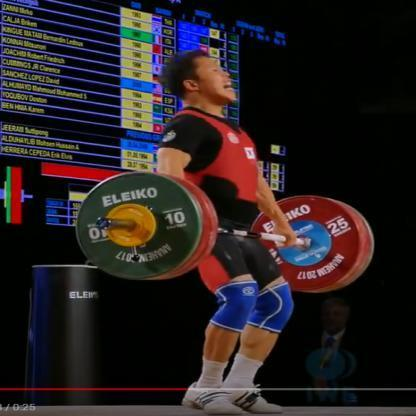barbell: (75, 169, 376, 295)
